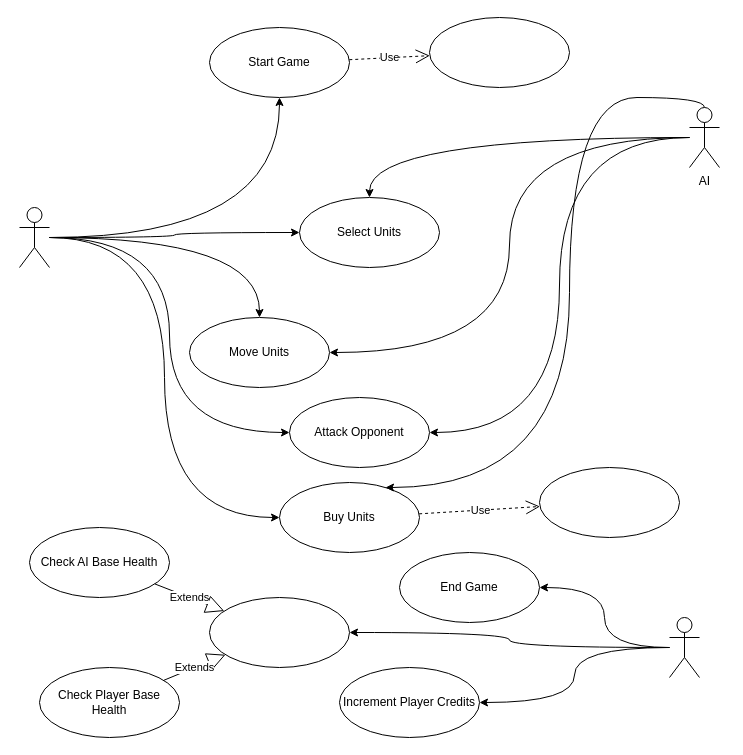
The diagram is 743 pixels wide and 755 high, and some of its shapes have lost their labels. Each missing label, with the box of its shape:
Buy Menu: (538, 466, 680, 538)
Check Game Status: (208, 596, 350, 668)
Game Manager: (668, 616, 700, 678)
Game Menu: (428, 16, 570, 88)
Player: (18, 206, 50, 268)
